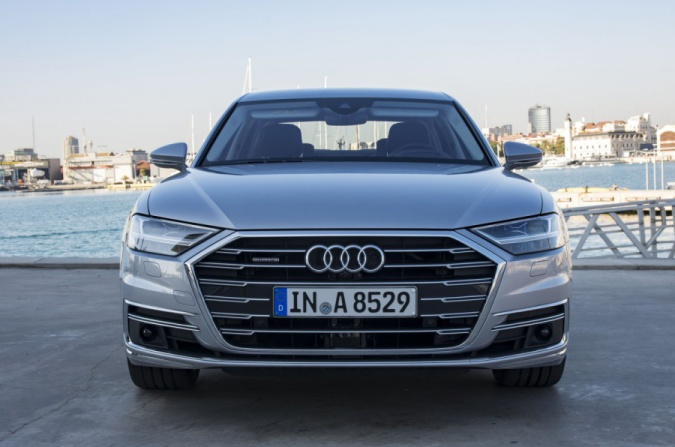audi: (294, 240, 387, 274)
